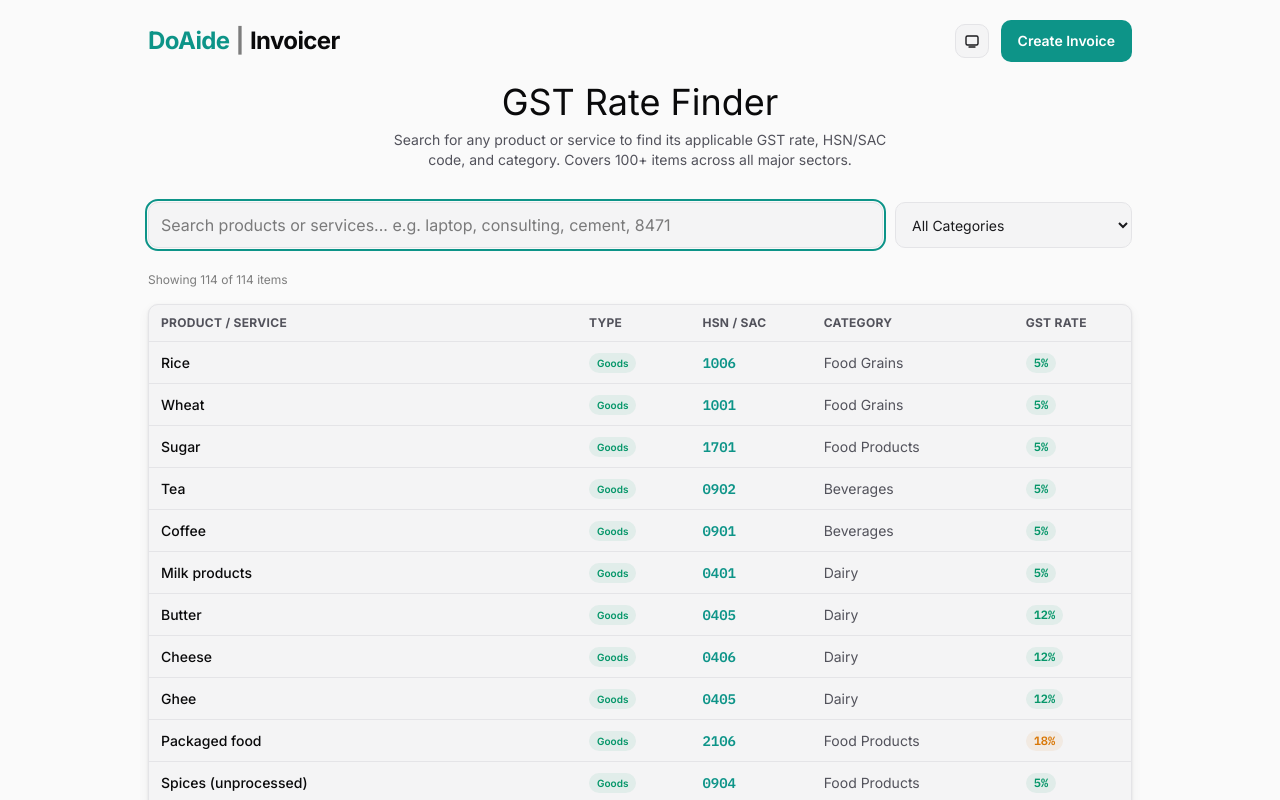
Test: GstRateFinderPage › shows HSN codes in results
This screenshot has width=1280, height=800.
Replace the text in the search field with placeholder "Search products or services" with "laptop" at [516, 225], box [148,202,883,248]
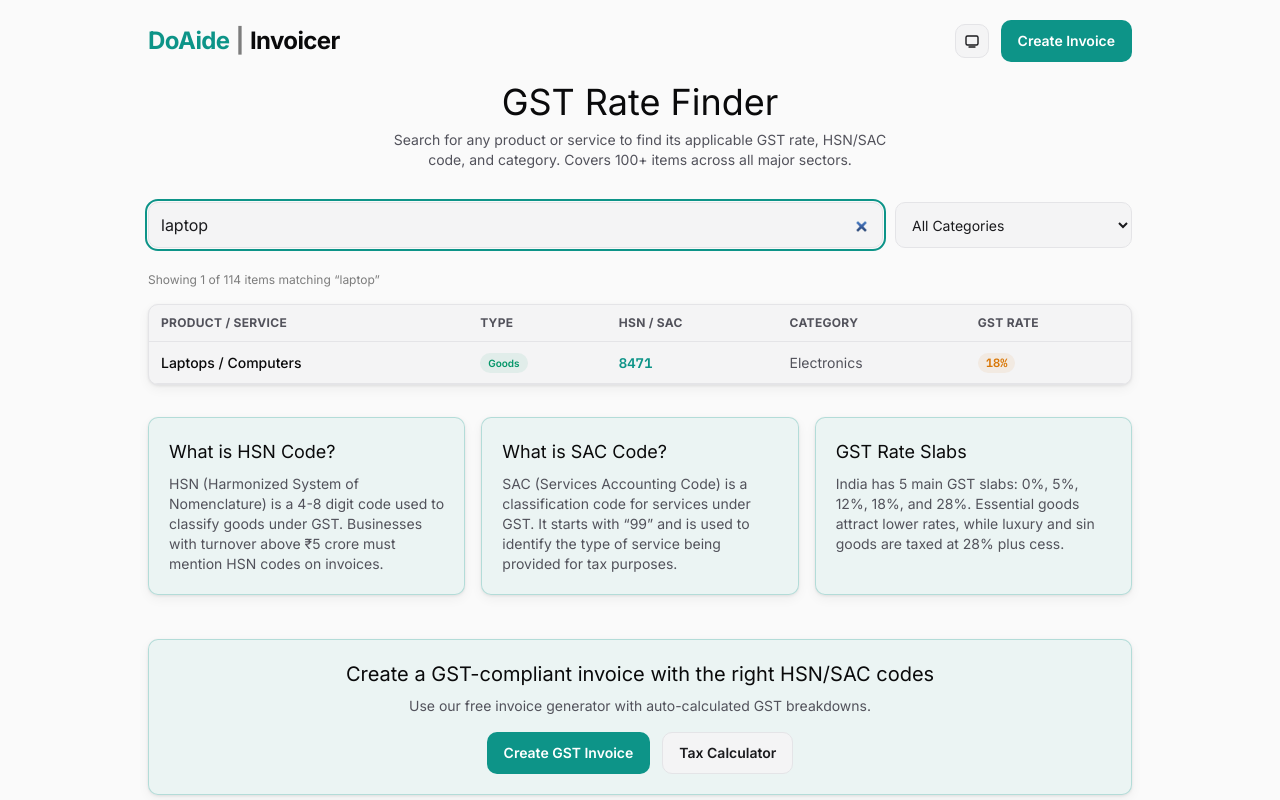
Now the text "8471" is shown, box [607,342,778,384]
